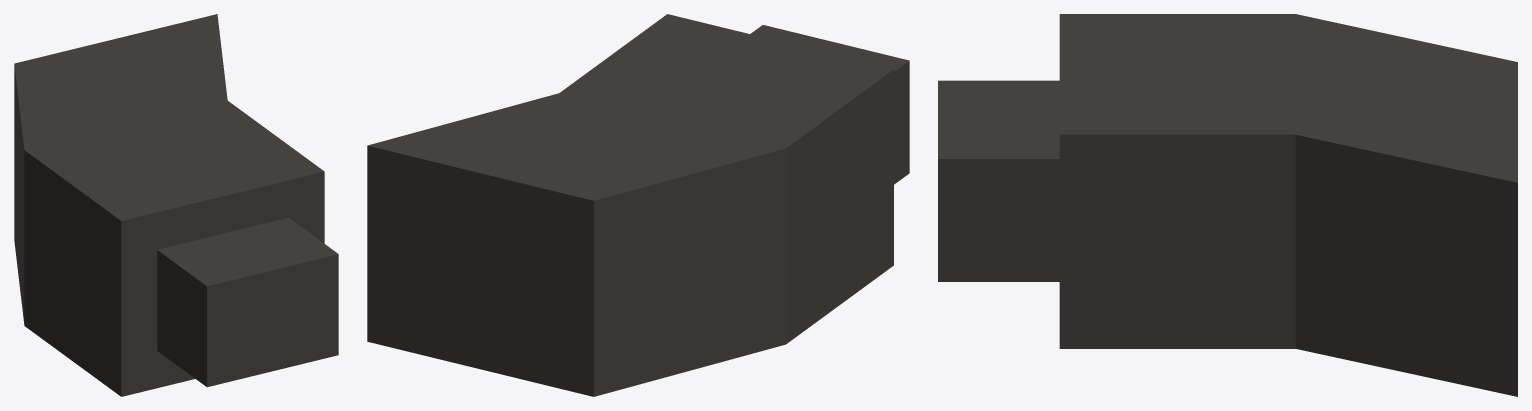
Rendered from SMG6_03_4.fbx.
The picture shows the model from 3 angles, left to right: view 1: azimuth 30°, elevation 25°; view 2: azimuth 150°, elevation 25°; view 3: azimuth 270°, elevation 25°; orthographic projection. The views are drawn at different scales.
Parts seen in each view (by area): view 1: SMG6_03_4; view 2: SMG6_03_4; view 3: SMG6_03_4.
Boxes of the visible parts, x1,y1,x2,y2 form: SMG6_03_4: [14, 14, 338, 396]; SMG6_03_4: [367, 14, 909, 396]; SMG6_03_4: [938, 14, 1517, 396].
Bounding box in the file's own units: 0.013 × 0.00767 × 0.0188.
